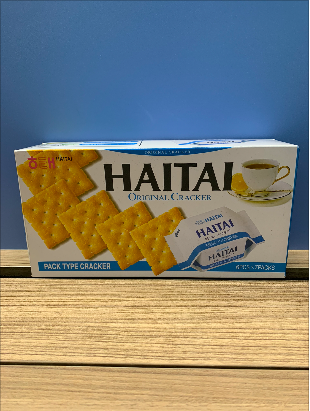Crackers_200-299g: (28, 152, 277, 274)
